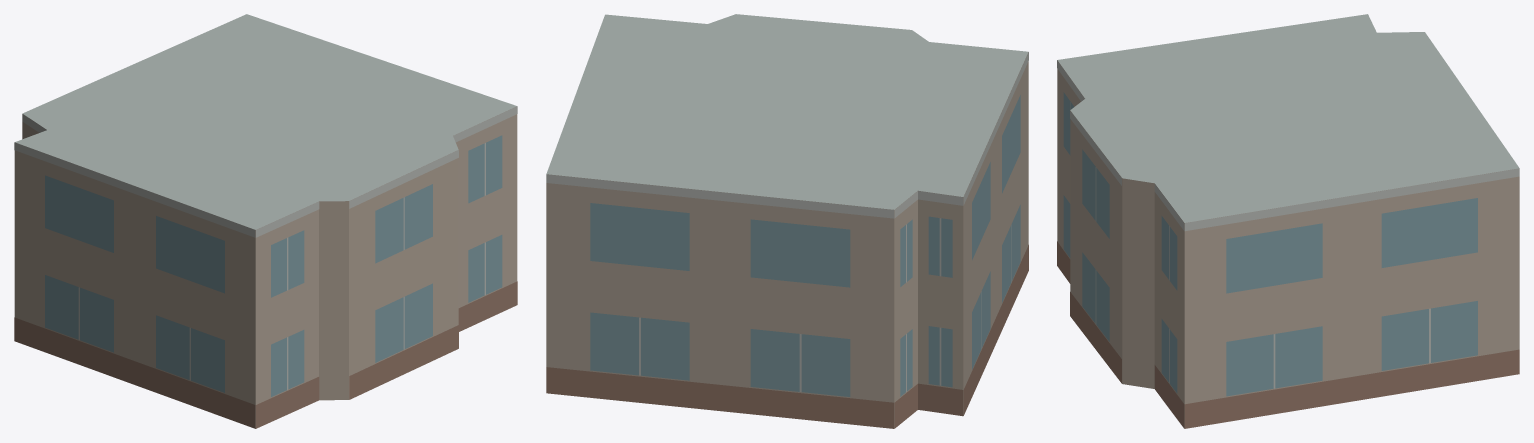
The model's file is survey-upis-32526294.glb.
The picture shows the model from 3 angles, left to right: view 1: azimuth 30°, elevation 25°; view 2: azimuth 150°, elevation 25°; view 3: azimuth 270°, elevation 25°; orthographic projection. The views are drawn at different scales.
Visible parts, largest first — view 1: survey-upis-32526294.tmp; view 2: survey-upis-32526294.tmp; view 3: survey-upis-32526294.tmp.
Part boxes in pixels (left/top/right/bottom): survey-upis-32526294.tmp: left=14, top=14, right=517, bottom=428; survey-upis-32526294.tmp: left=546, top=14, right=1028, bottom=428; survey-upis-32526294.tmp: left=1057, top=14, right=1519, bottom=428.
Size of the model in its own units: 13.3 by 6.1 by 12.43.
